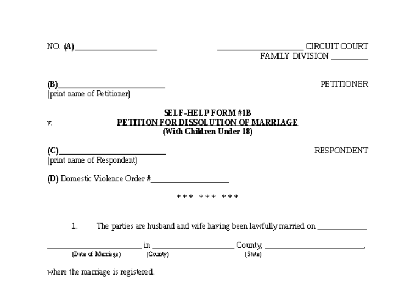textline: (57, 80, 166, 90), (58, 146, 166, 156), (150, 239, 236, 251), (216, 41, 305, 52), (46, 241, 142, 251), (74, 41, 158, 52), (263, 243, 365, 252), (150, 175, 231, 184), (317, 222, 368, 232), (330, 52, 369, 61)
